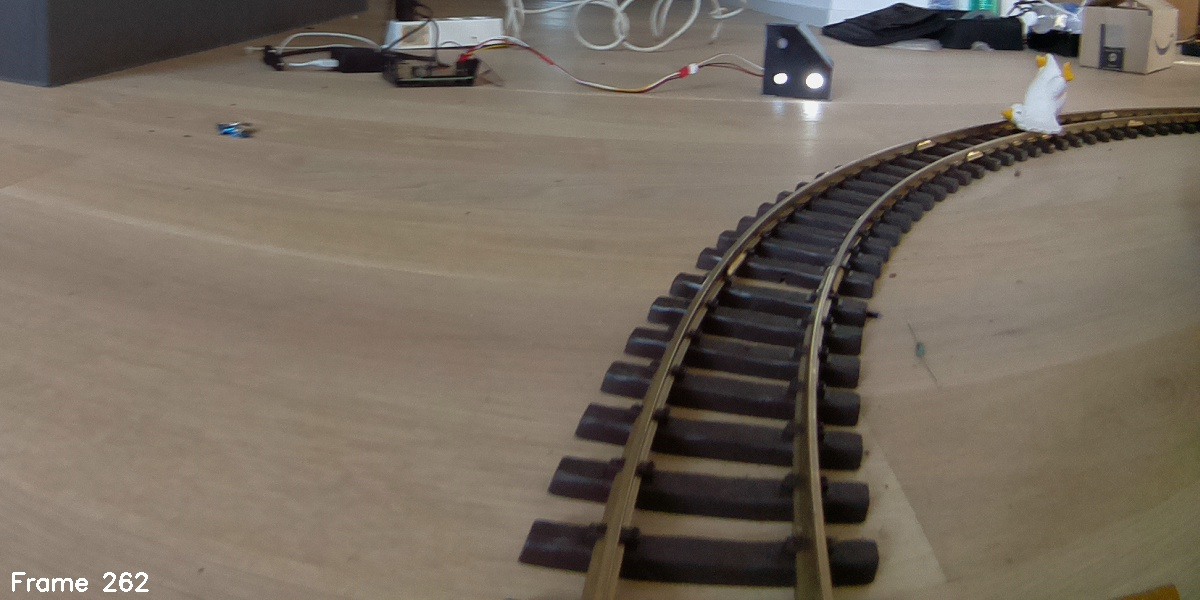Halt: (766, 23, 832, 102)
